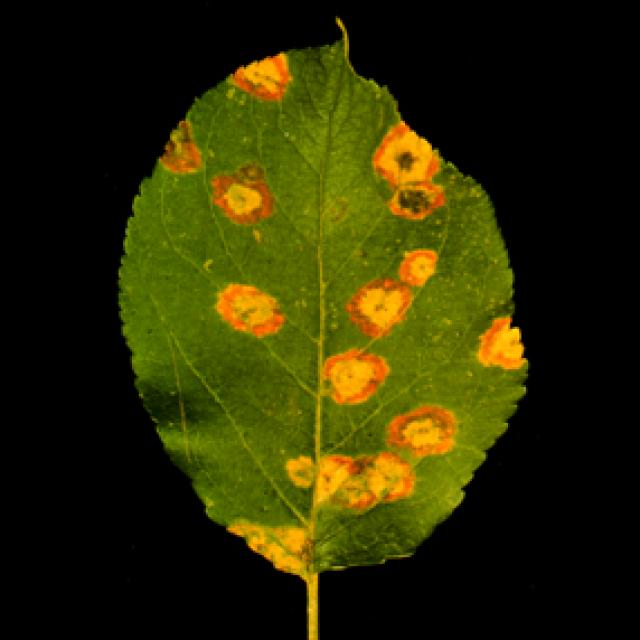Gymnosporangium_Rusts: (138, 19, 572, 633)
